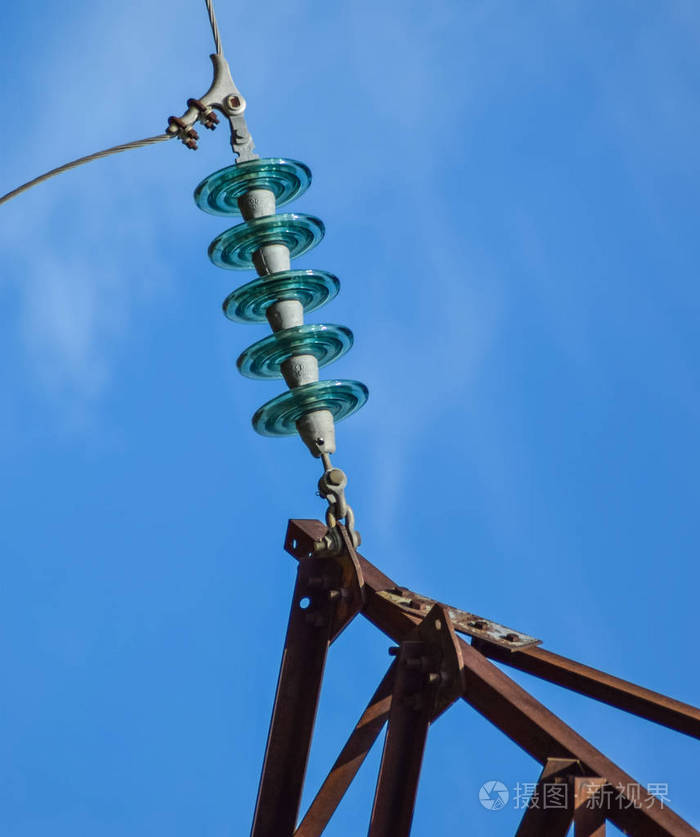insulator: (200, 157, 368, 441)
